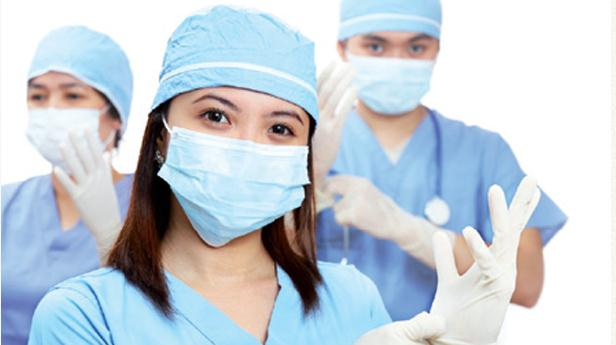mask: (156, 128, 312, 251)
